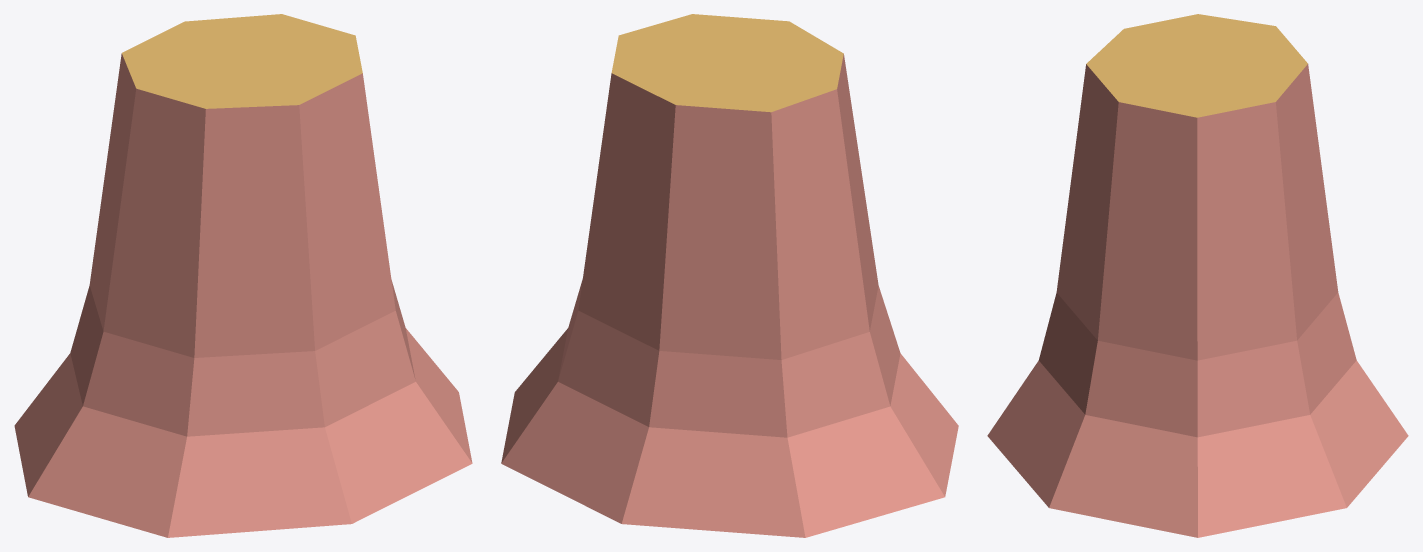
File: TreeStump2.fbx
3 renders of one model, left to right at view 1: azimuth 30°, elevation 25°; view 2: azimuth 150°, elevation 25°; view 3: azimuth 270°, elevation 25°, orthographic. The views are drawn at different scales.
Parts seen in each view (by area): view 1: Cylinder; view 2: Cylinder; view 3: Cylinder.
Boxes of the visible parts, x1,y1,x2,y2 form: Cylinder: [14, 14, 472, 537]; Cylinder: [501, 14, 958, 537]; Cylinder: [987, 14, 1408, 537].
Size of the model in its own units: 1.99 by 1.69 by 1.74.
